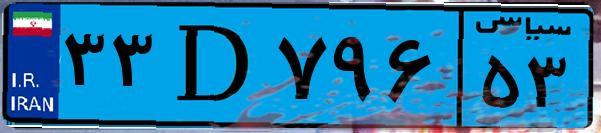3: (57, 26, 110, 100), (525, 38, 570, 115), (110, 28, 158, 98)
5: (475, 38, 525, 113)
6: (385, 28, 445, 110)
7: (270, 28, 330, 110)
9: (330, 28, 385, 110)
D: (158, 12, 270, 120)
